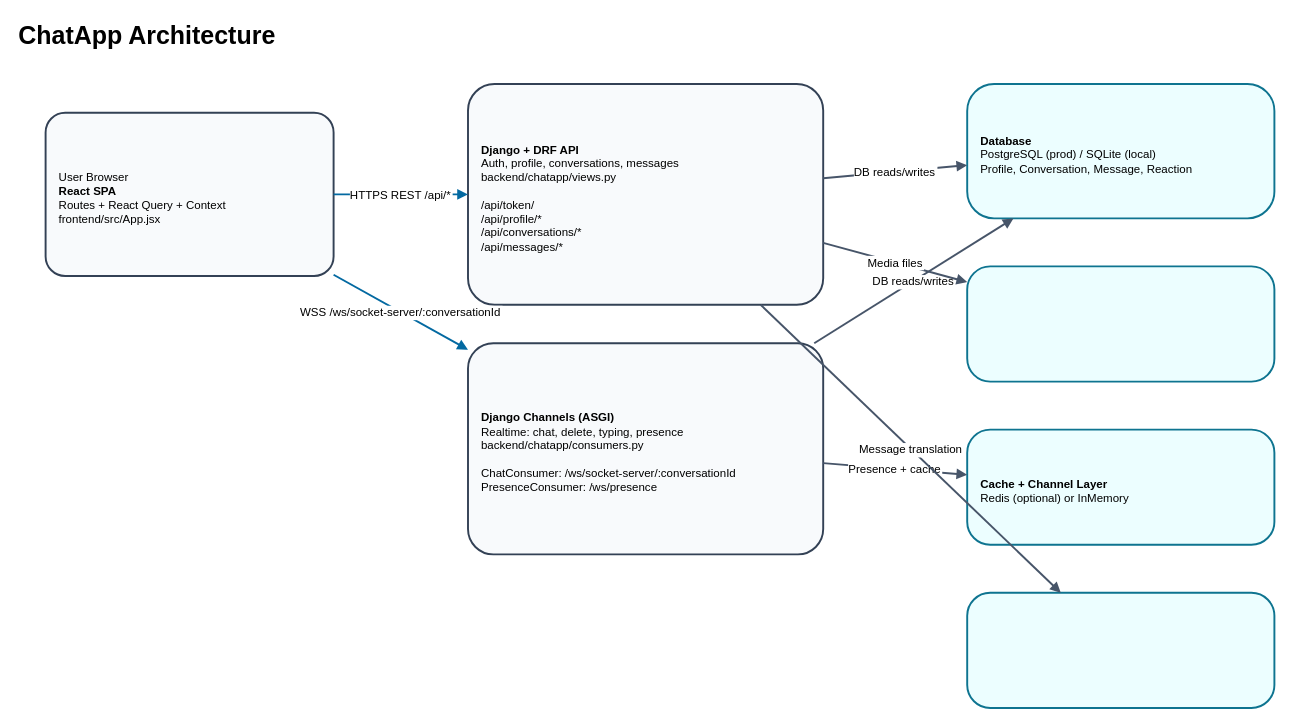
This 1291x725 diagram has some shape labels left out. The shapes that lost their labels are listed below. From the top down, each one's centre as x and y in pixels, then its label:
At point 1120,323: "Media Storage profile_images/, attachments/".
At point 1120,649: "External Service Google Translate API".
